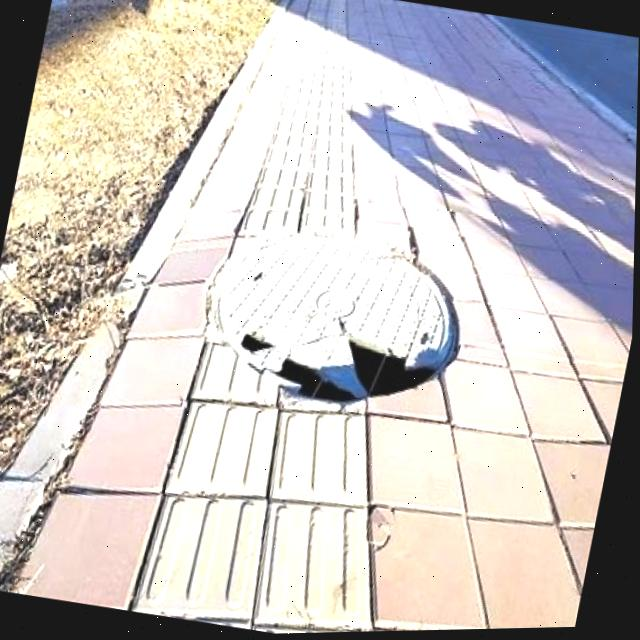manhole: (181, 204, 481, 431)
